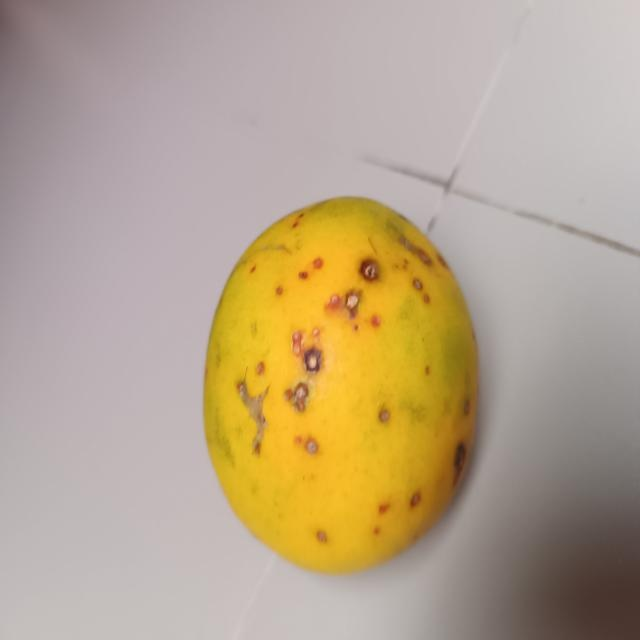agrume: (198, 181, 488, 578)
